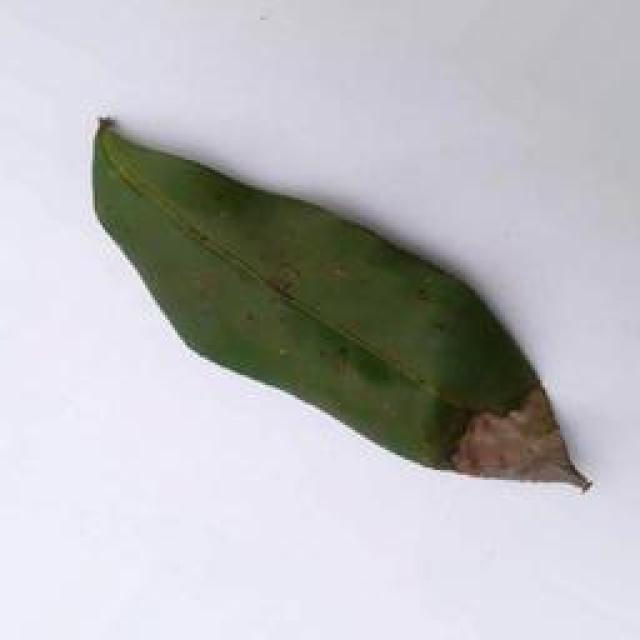Gray Blight: (90, 112, 598, 498)
